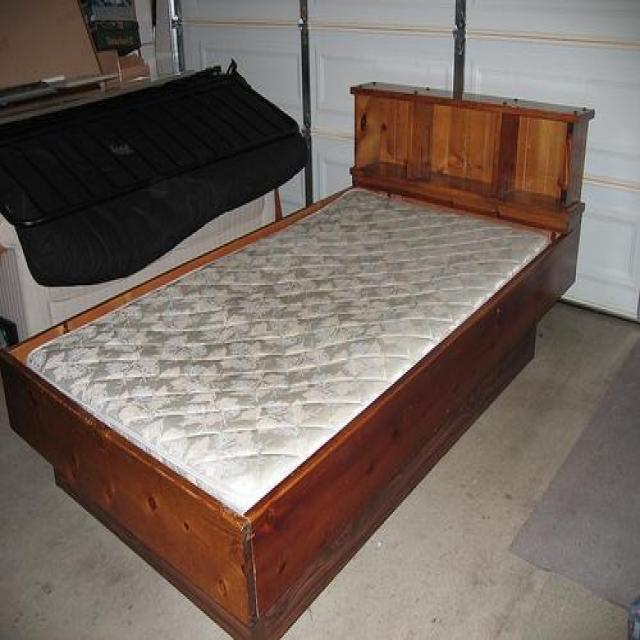bed: (0, 77, 594, 640), (0, 57, 308, 341)
